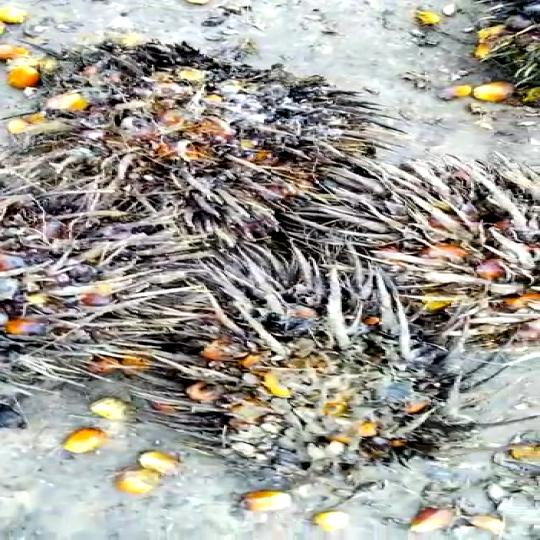terlalu masak: (90, 245, 497, 485), (0, 54, 403, 243)
